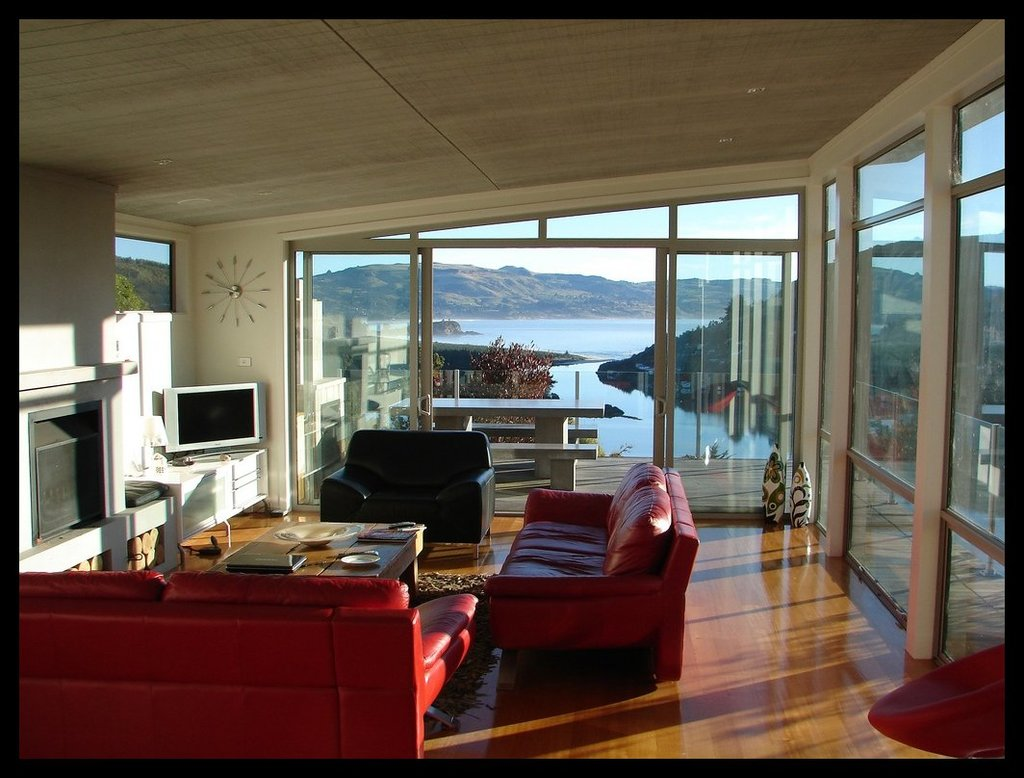Couch: (16, 568, 480, 758), (483, 463, 701, 680), (315, 426, 499, 544)
